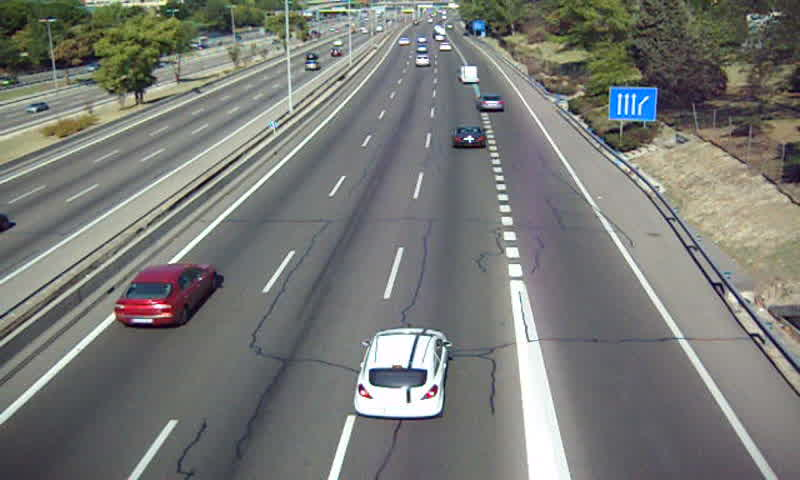car: (356, 328, 449, 417), (115, 264, 216, 328), (452, 125, 486, 147), (478, 93, 504, 111), (415, 54, 430, 66)
van: (460, 64, 478, 82)
